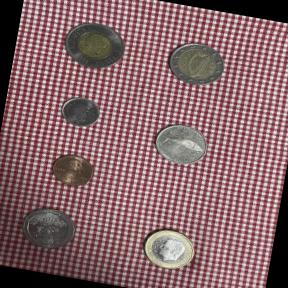coin: (51, 10, 140, 81), (139, 111, 219, 179), (156, 31, 236, 96), (131, 216, 209, 282), (9, 197, 88, 262), (44, 145, 103, 195), (54, 87, 111, 134)
